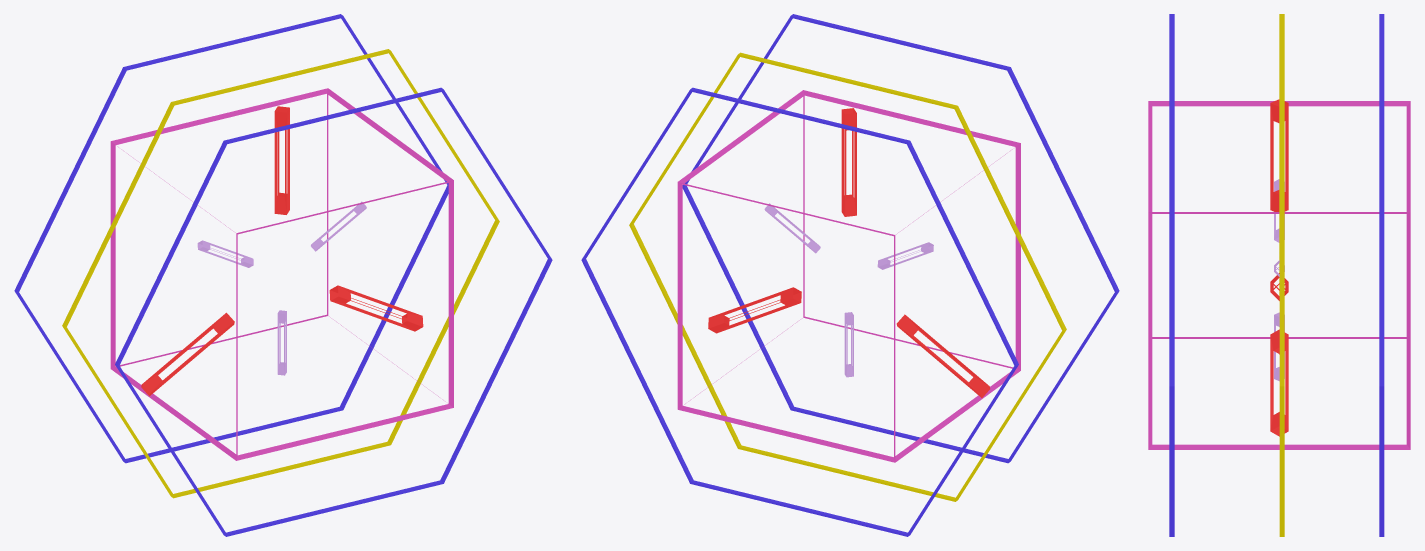
Rendered from spawn.glb.
3 renders of one model, left to right at view 1: azimuth 30°, elevation 25°; view 2: azimuth 150°, elevation 25°; view 3: azimuth 270°, elevation 25°, orthographic. The views are drawn at different scales.
Visible parts, largest first — view 1: Cube, BoundaryHexBack, BoundaryHexMiddleWarning, BoundaryHexFront, LargeTriadTop, LargeTriadRight, LargeTriadLeft; view 2: Cube, BoundaryHexFront, BoundaryHexMiddleWarning, BoundaryHexBack, LargeTriadTop, LargeTriadRight, LargeTriadLeft; view 3: Cube, BoundaryHexFront, BoundaryHexBack, BoundaryHexMiddleWarning, LargeTriadTop, LargeTriadRight.
Part boxes in pixels (x1,y1,x2,y2): Cube: (110,88,453,460); BoundaryHexBack: (115,87,552,536); BoundaryHexMiddleWarning: (62,49,499,498); BoundaryHexFront: (14,14,448,463); LargeTriadTop: (274,106,289,214); LargeTriadRight: (329,285,423,331); LargeTriadLeft: (141,312,234,396); Cube: (677,90,1020,462); BoundaryHexFront: (581,87,1018,536); BoundaryHexMiddleWarning: (629,52,1066,501); BoundaryHexBack: (682,14,1119,463); LargeTriadTop: (841,108,856,216); LargeTriadRight: (708,287,801,333); LargeTriadLeft: (896,314,990,397); Cube: (1148,101,1410,449); BoundaryHexFront: (1379,14,1384,536); BoundaryHexBack: (1169,14,1174,536); BoundaryHexMiddleWarning: (1279,14,1284,536); LargeTriadTop: (1270,99,1288,211); LargeTriadRight: (1270,329,1288,436).
Size of the model in its own units: 2 by 1.73 by 1.
